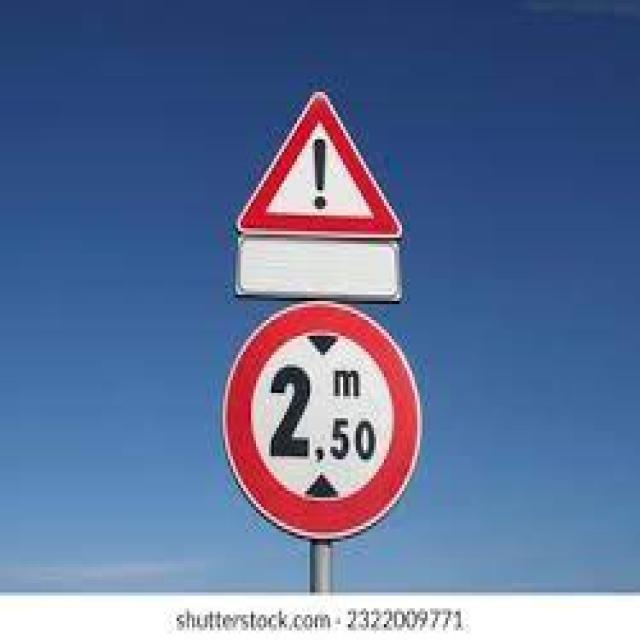height limit: (224, 301, 425, 539)
